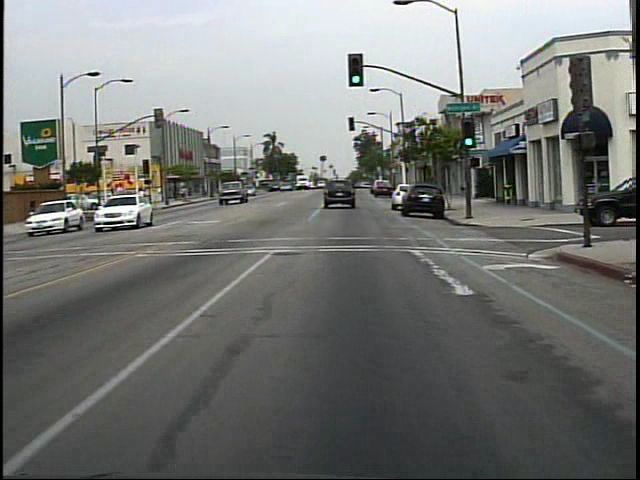person: (136, 184, 152, 209)
